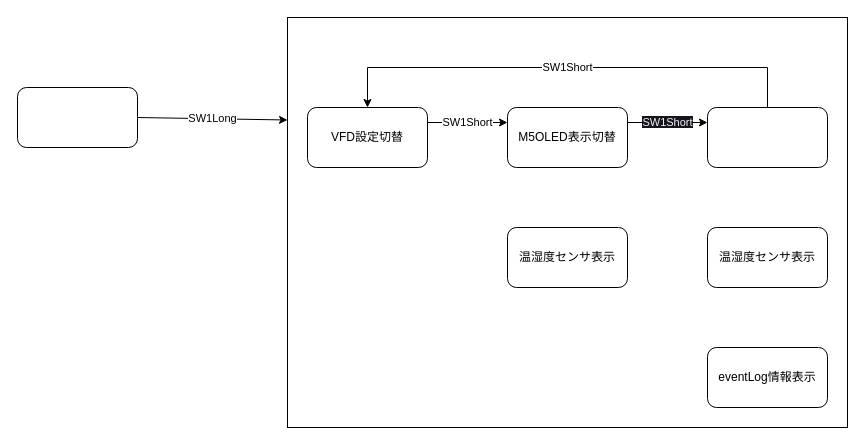
This 865x445 diagram has some shape labels left out. The centre of each missing label's shape, as x and y in pixels:
"OLED表示切替" belongs at (767,137).
"VFD表示切替" belongs at (77,117).
